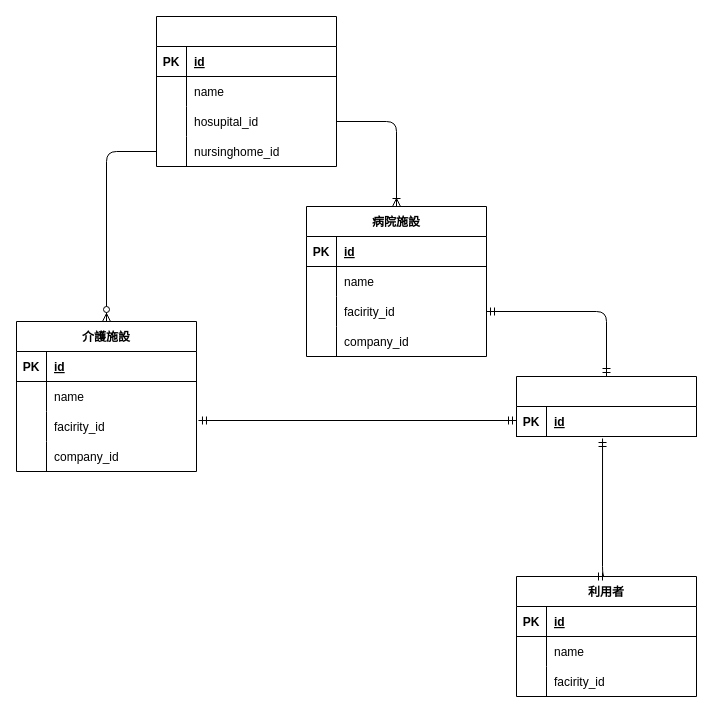
Some shapes in this 713 by 713 pixel diagram are drawn without their labels. The shapes that lost their labels are listed below. From the top down, each one's box as (x1, y1, x2, y2) in pixels, then its label:
(156, 16, 336, 166): 法人
(516, 376, 696, 436): 施設
